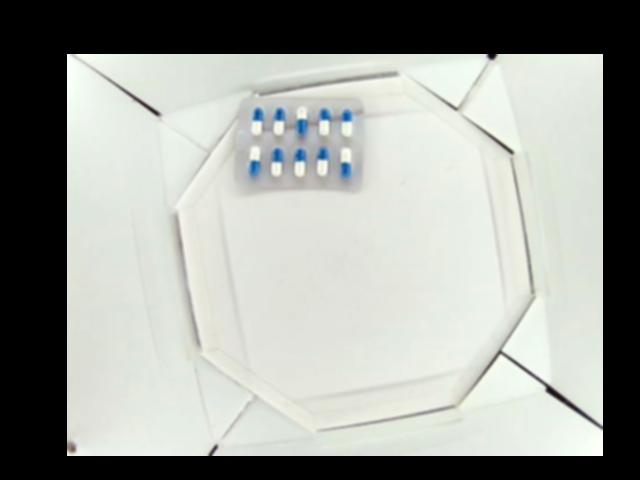Medicine: (235, 96, 366, 193)
